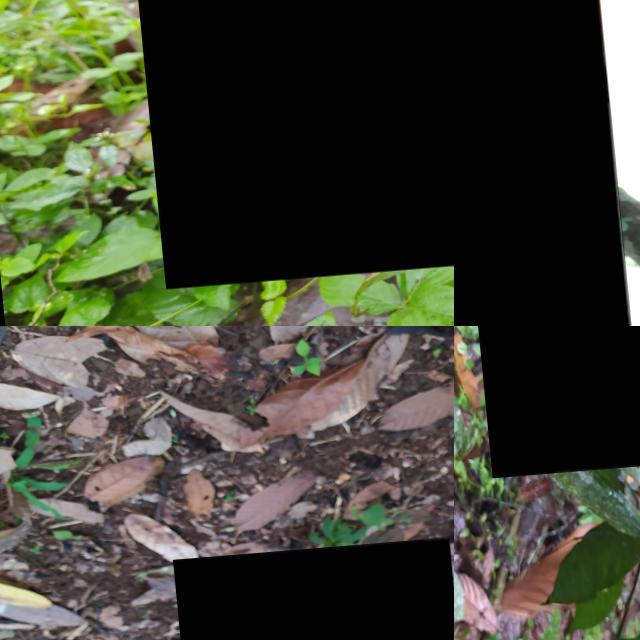Fitoftora: (118, 0, 454, 292), (454, 0, 627, 326)
Monilia: (167, 546, 454, 640), (469, 326, 640, 479)
